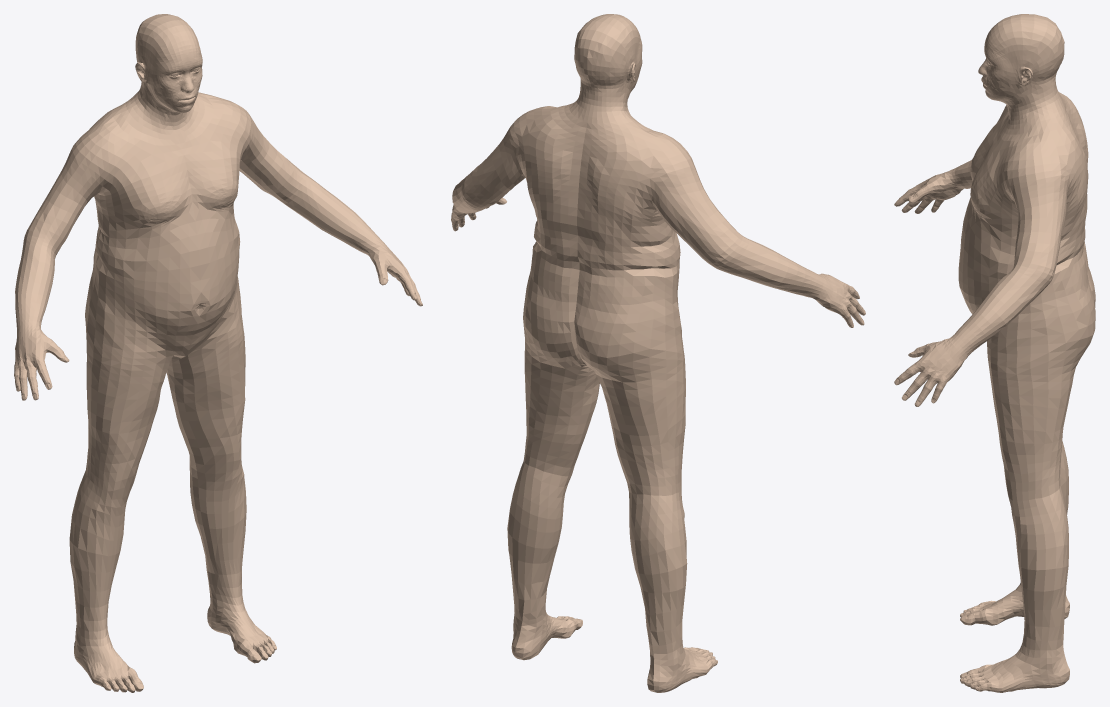
File: male-adult-max-low.glb
3 renders of one model, left to right at view 1: azimuth 30°, elevation 25°; view 2: azimuth 150°, elevation 25°; view 3: azimuth 270°, elevation 25°, orthographic.
Parts seen in each view (by area): view 1: world; view 2: world; view 3: world.
Part boxes in pixels (left/top/right/bottom): world: left=14, top=14, right=422, bottom=692; world: left=451, top=14, right=865, bottom=692; world: left=894, top=14, right=1095, bottom=692.
Size of the model in its own units: 1.28 by 1.95 by 0.5592.
